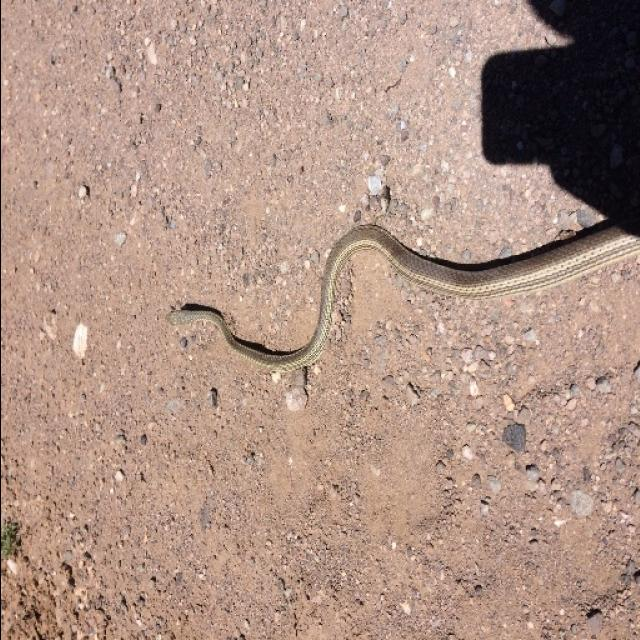snake: (156, 177, 640, 392)
